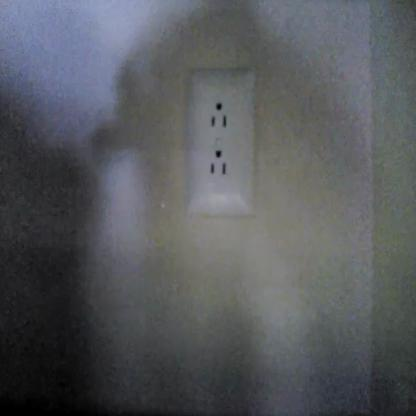OUTLET: (182, 67, 256, 219)
